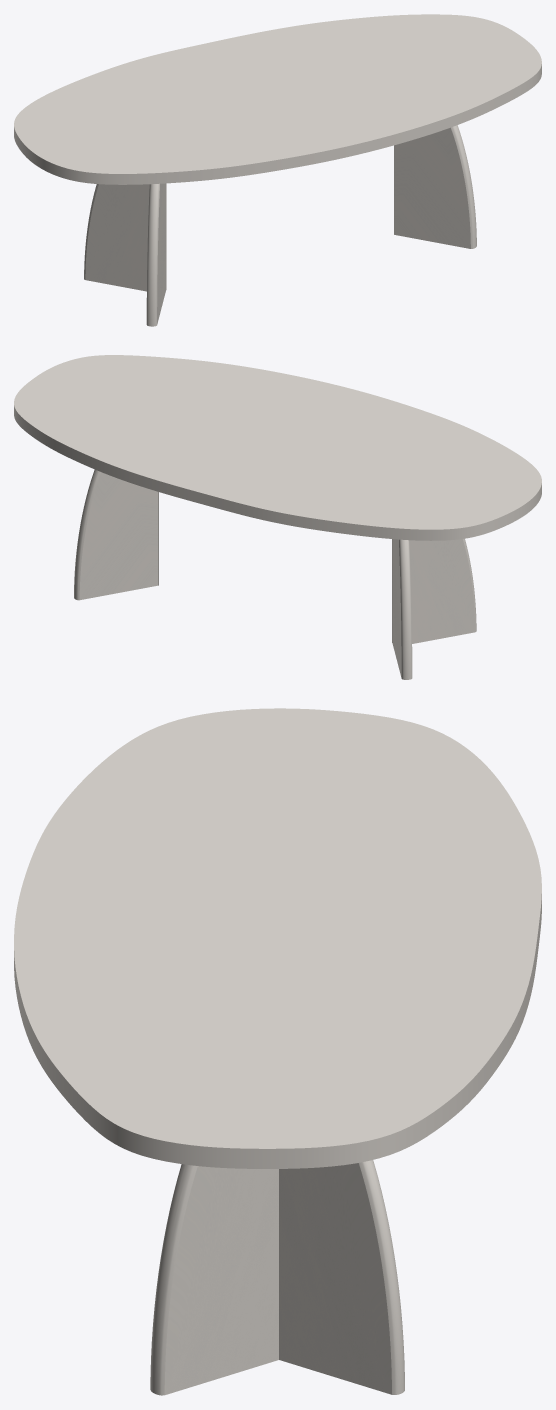
Rendered from pearlwhite_danish_standard_newtable2.glb.
The picture shows the model from 3 angles, top to bottom: view 1: azimuth 30°, elevation 25°; view 2: azimuth 150°, elevation 25°; view 3: azimuth 270°, elevation 25°; orthographic projection. The views are drawn at different scales.
Parts seen in each view (by area): view 1: standard_danish, newtable2_singleright2, newtable2_singleleft1, newtable2_singleright1; view 2: standard_danish, newtable2_singleleft2, newtable2_singleright1, newtable2_singleleft1; view 3: standard_danish, newtable2_singleright2, newtable2_singleleft2.
Boxes of the visible parts, x1=… form: standard_danish: x1=14, y1=14, x2=541, y2=184; newtable2_singleright2: x1=394, y1=125, x2=476, y2=248; newtable2_singleleft1: x1=84, y1=183, x2=166, y2=291; newtable2_singleright1: x1=146, y1=183, x2=165, y2=326; standard_danish: x1=14, y1=355, x2=541, y2=540; newtable2_singleleft2: x1=74, y1=469, x2=158, y2=600; newtable2_singleright1: x1=392, y1=538, x2=476, y2=643; newtable2_singleleft1: x1=392, y1=539, x2=412, y2=679; standard_danish: x1=14, y1=708, x2=541, y2=1168; newtable2_singleright2: x1=150, y1=1164, x2=278, y2=1395; newtable2_singleleft2: x1=279, y1=1160, x2=404, y2=1394.
Size of the model in its own units: 7.5 by 2.49 by 3.8.
1 material, 1 textured.
